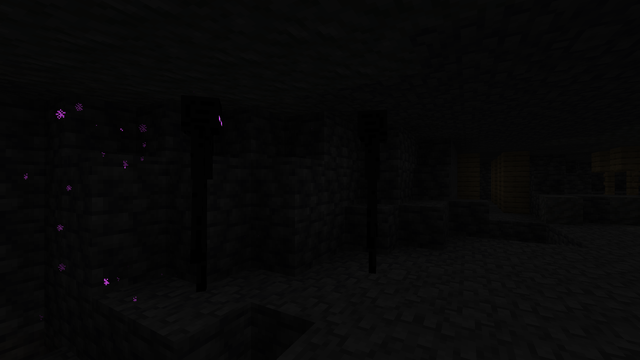endermens: (171, 86, 231, 298), (350, 102, 392, 277)
